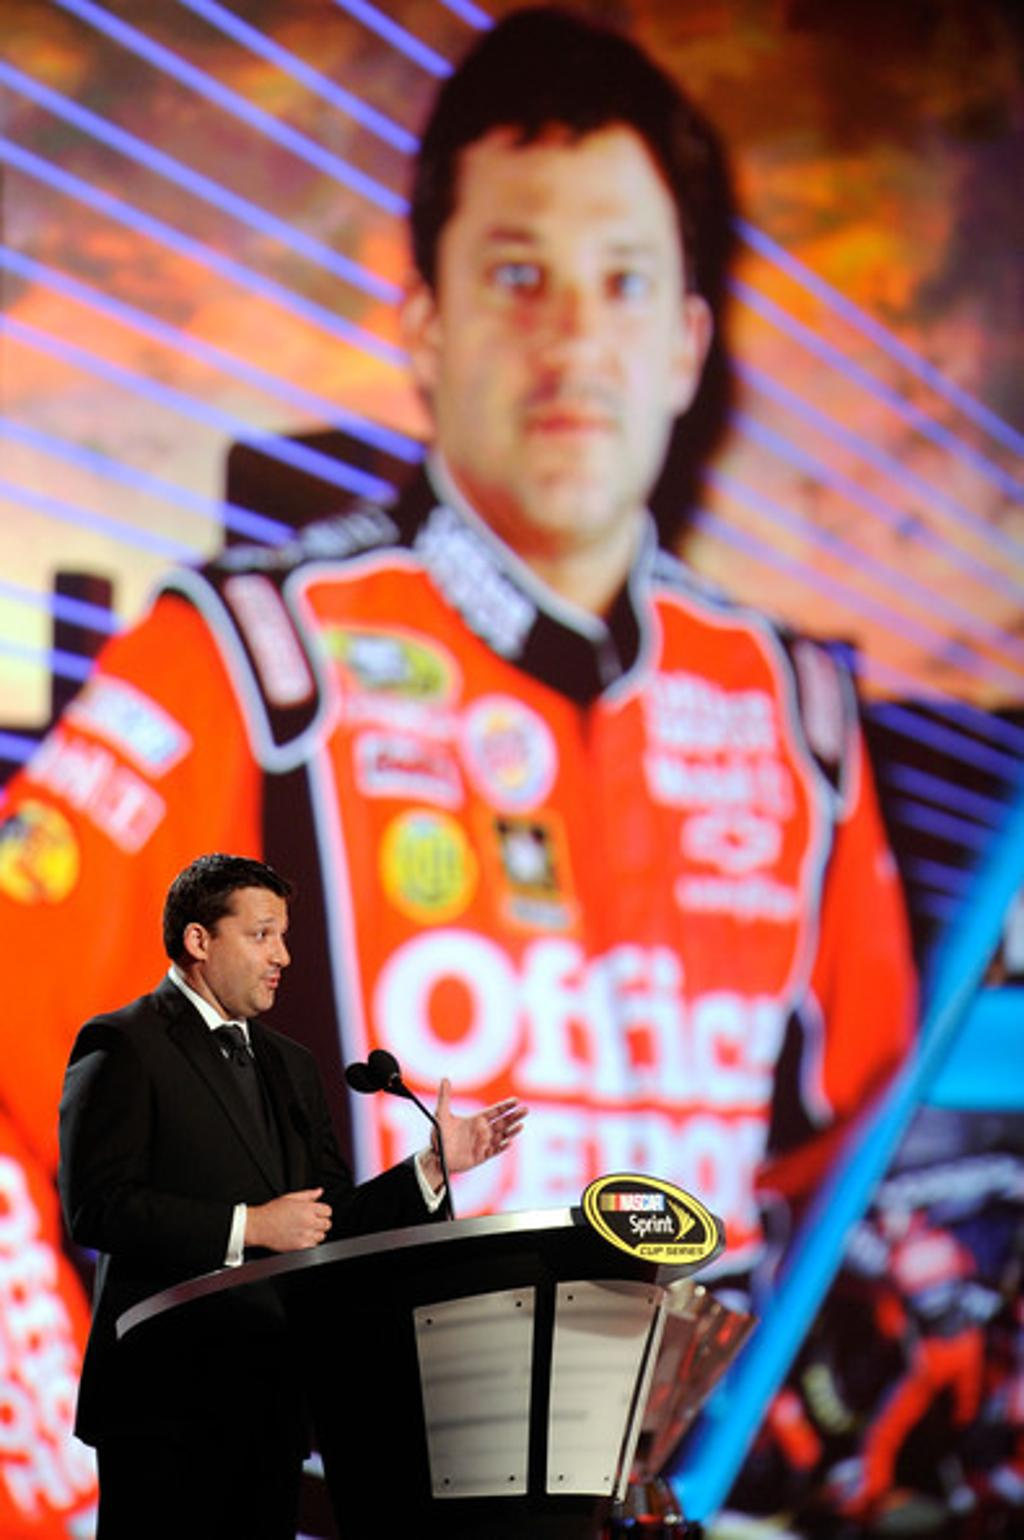face: (434, 72, 690, 530), (214, 876, 292, 1015)
